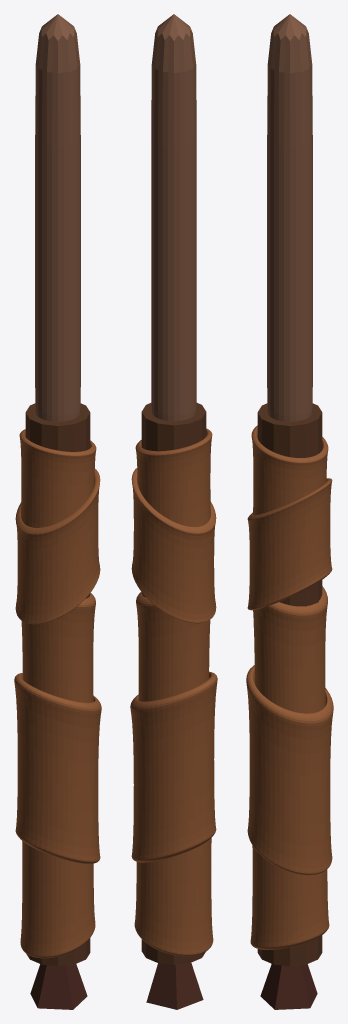
Rendered from Wand 318.glb.
The picture shows the model from 3 angles, left to right: view 1: azimuth 30°, elevation 25°; view 2: azimuth 150°, elevation 25°; view 3: azimuth 330°, elevation 25°; orthographic projection.
Visible parts, largest first — view 1: GeneratedWand; view 2: GeneratedWand; view 3: GeneratedWand.
Boxes of the visible parts, x1,y1,x2,y2 form: GeneratedWand: (14,14,101,1009); GeneratedWand: (130,14,217,1009); GeneratedWand: (246,14,333,1009).
Bounding box in the file's own units: 0.0408 × 0.5075 × 0.0408.
